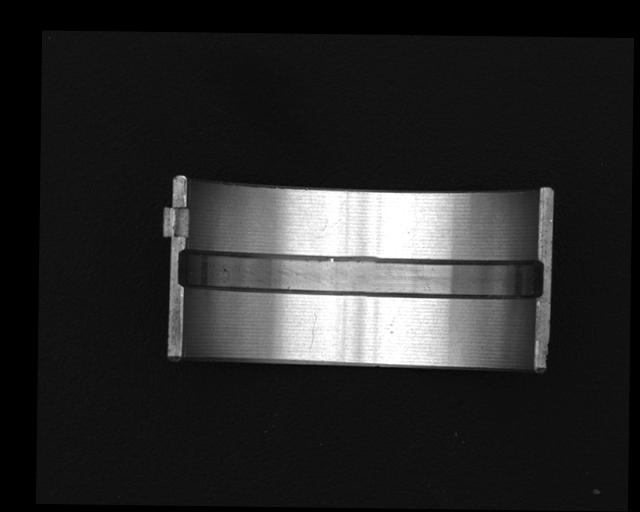gap: (179, 249, 546, 301)
nick: (308, 315, 318, 350)
